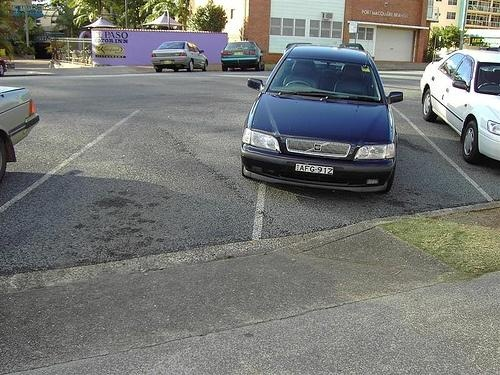car: (241, 40, 404, 195), (420, 46, 500, 170), (1, 86, 40, 179), (150, 40, 209, 73), (221, 40, 266, 70)
